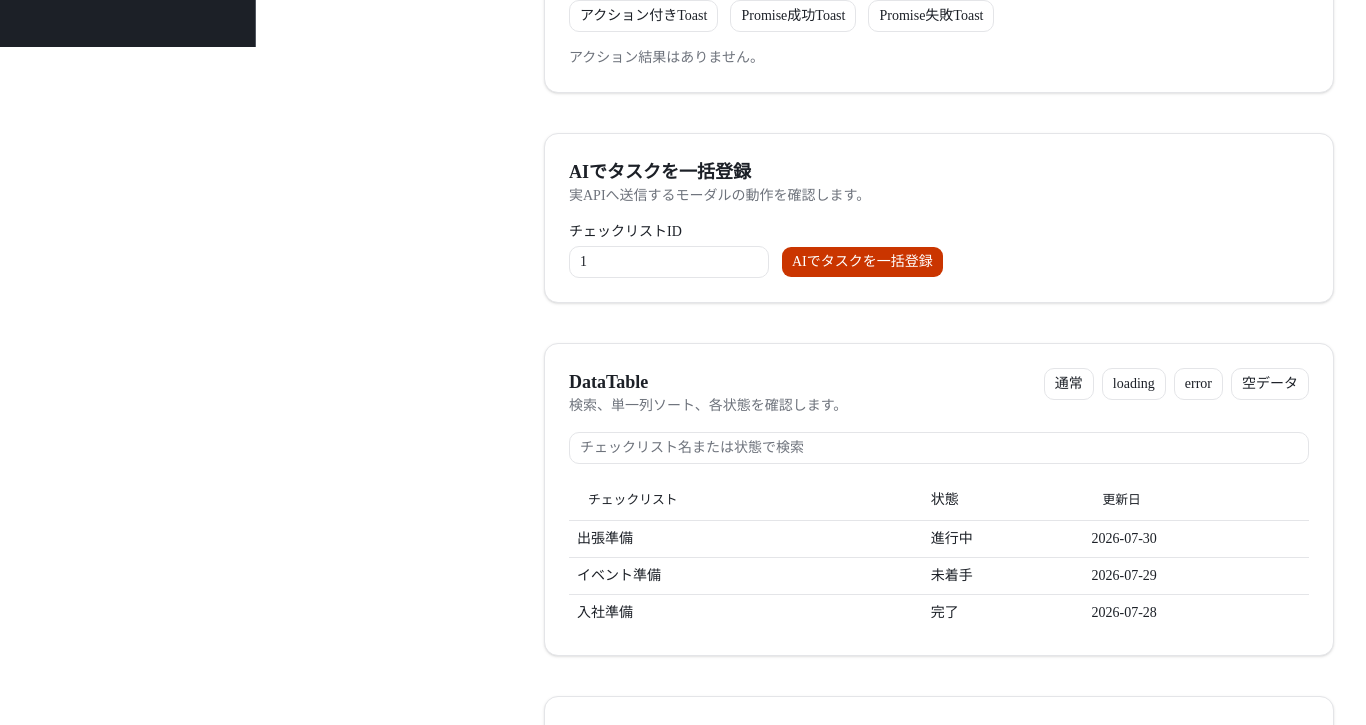
Scenario: UiPreviewPage › loading、error、空状態を切り替え、再試行で通常表示へ戻す
(page scrolled)
Click the button "loading": click(1134, 384) [1102,368,1166,400]
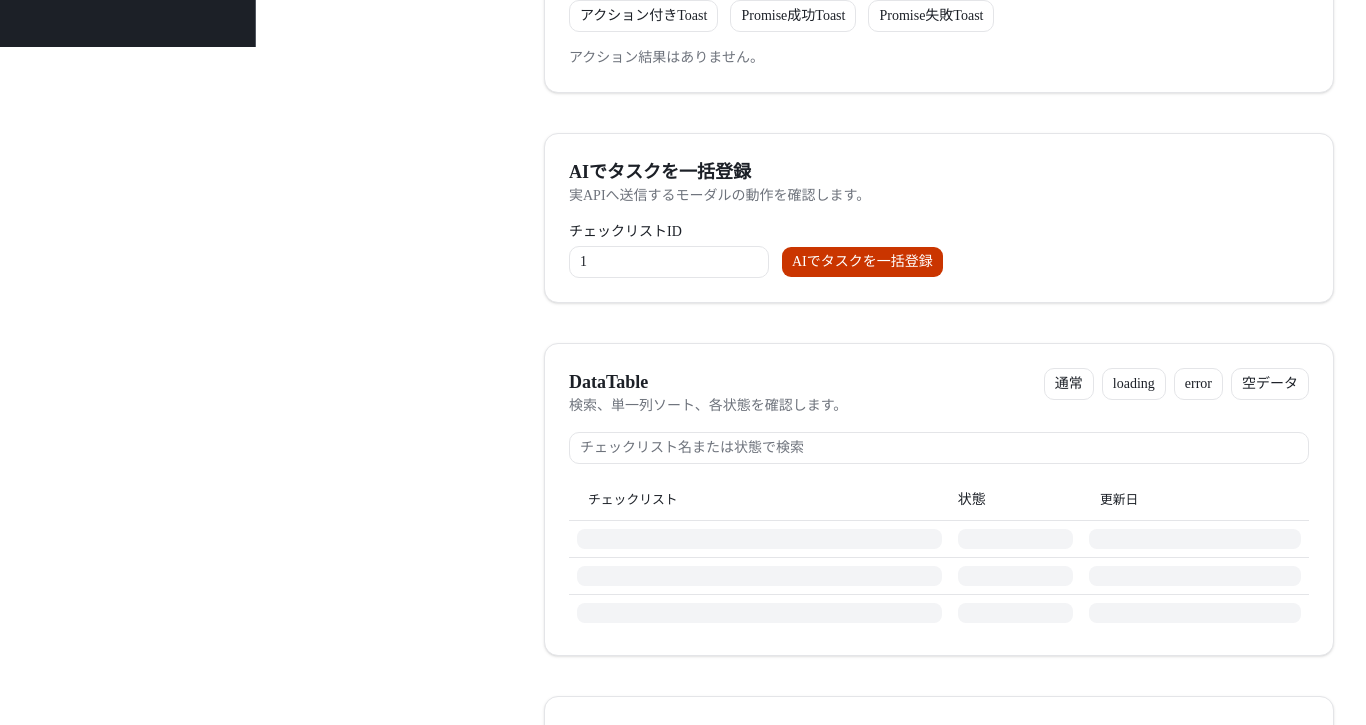
Expected: the number of rows named "読み込み中" is 3, [569,520,1309,557]; [569,557,1309,594]; [569,594,1309,630]
Click the button "error": click(1198, 384) [1174,368,1223,400]
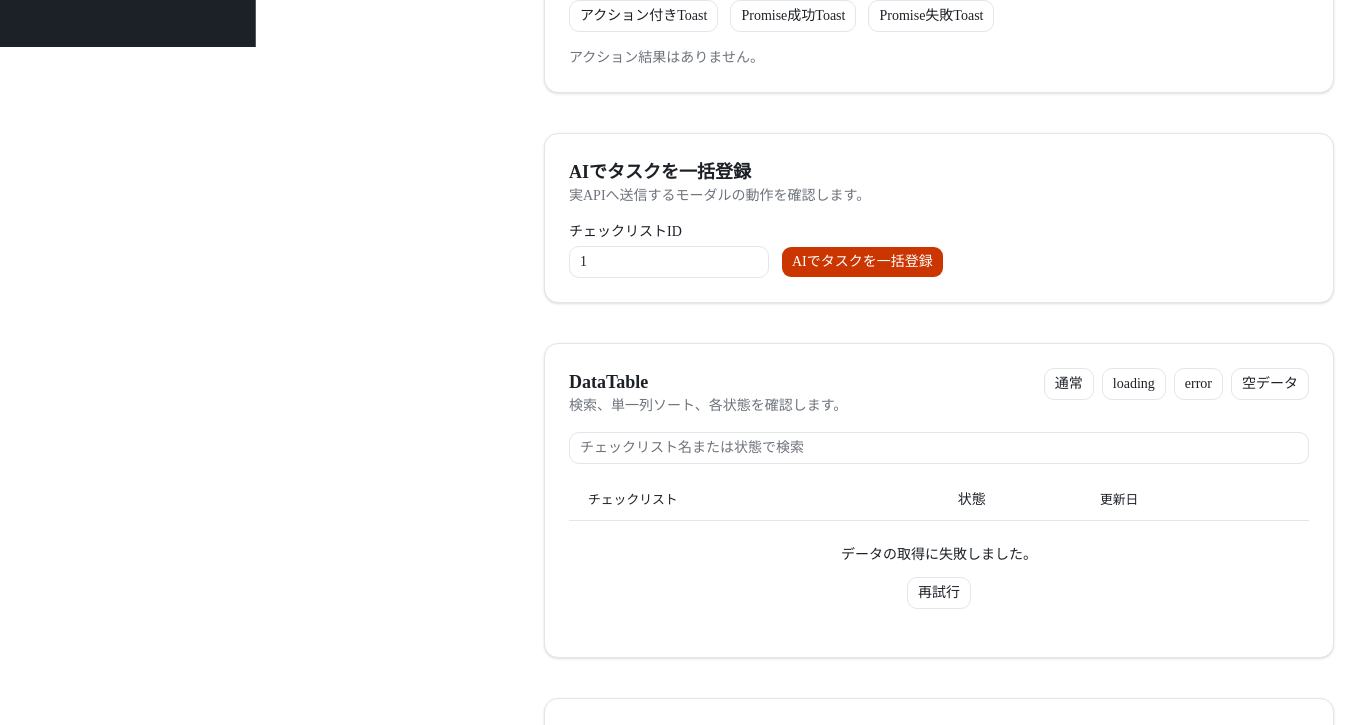
Result: the text "データの取得に失敗しました。" is shown at [841,546,1037,562]
Click the button "再試行": click(939, 592) [907,576,971,608]
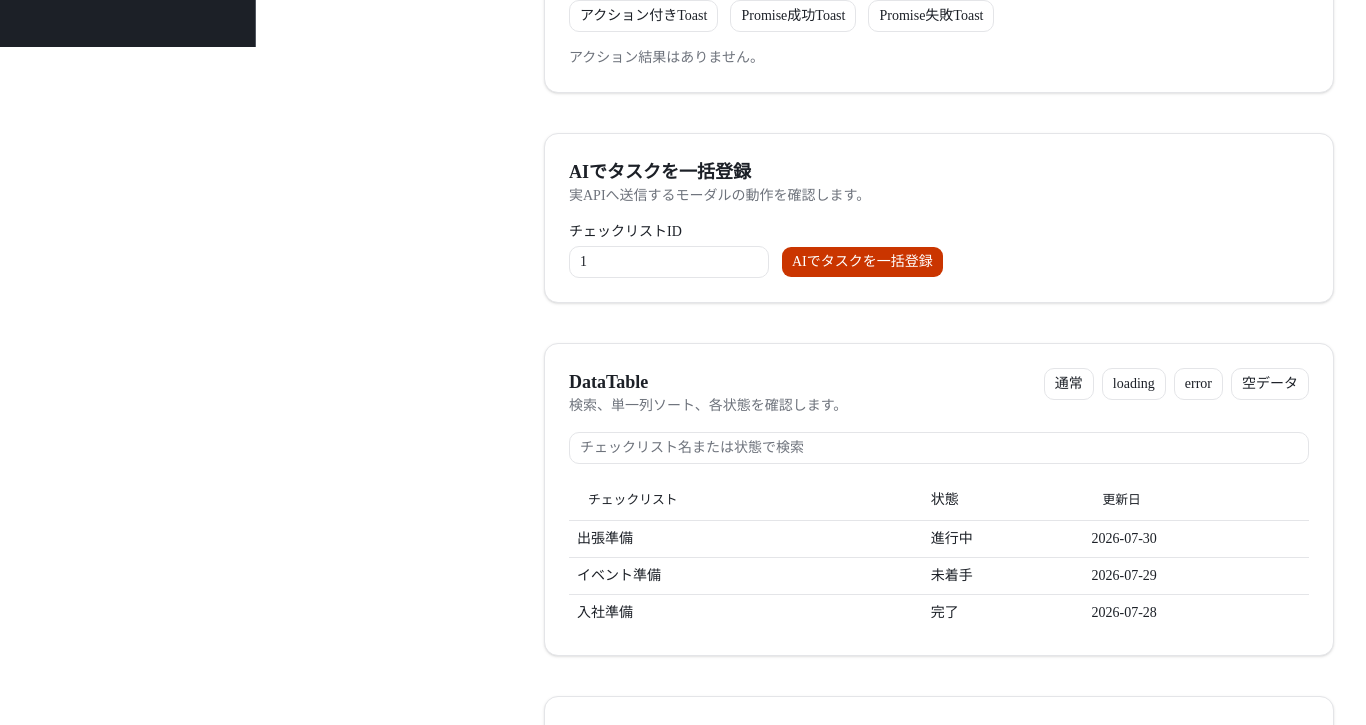
Result: the text "出張準備" is shown at [569,520,923,557]
Click the button "空データ": click(1270, 384) [1231,368,1309,400]
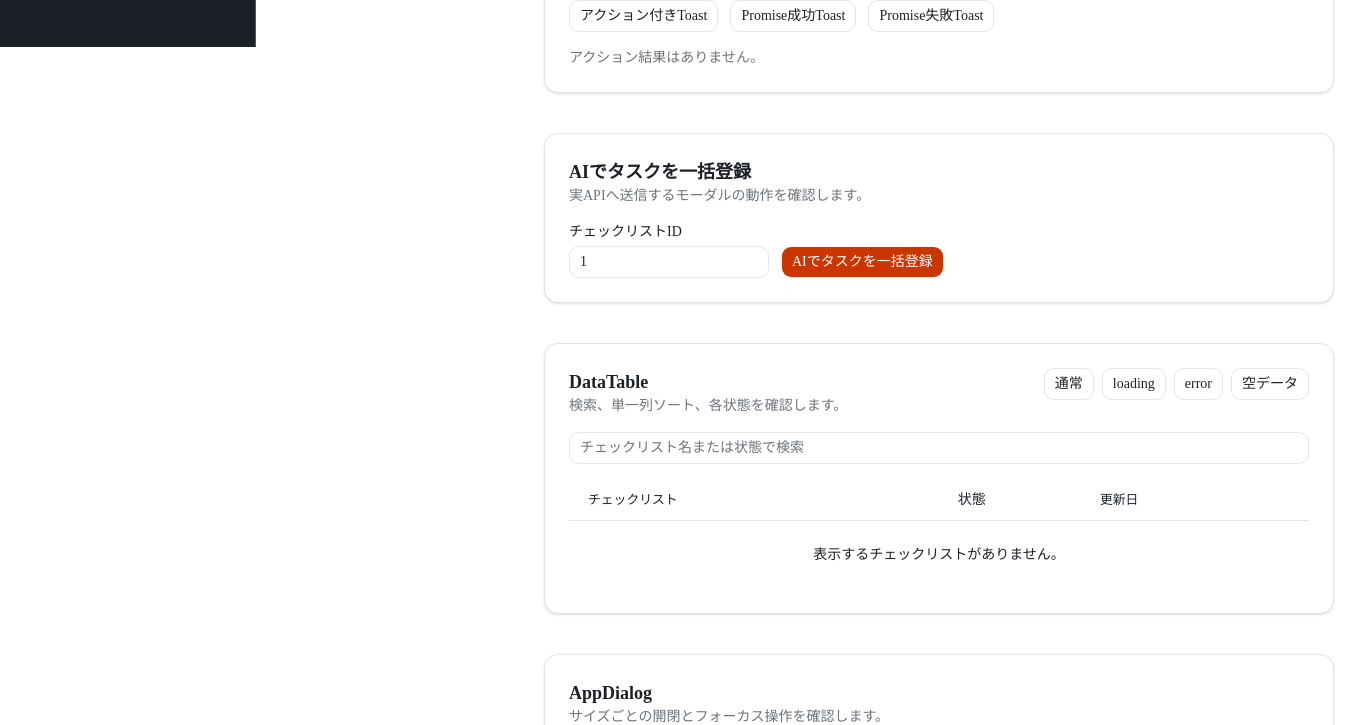
Result: the text "表示するチェックリストがありません。" is shown at [569,520,1309,588]
